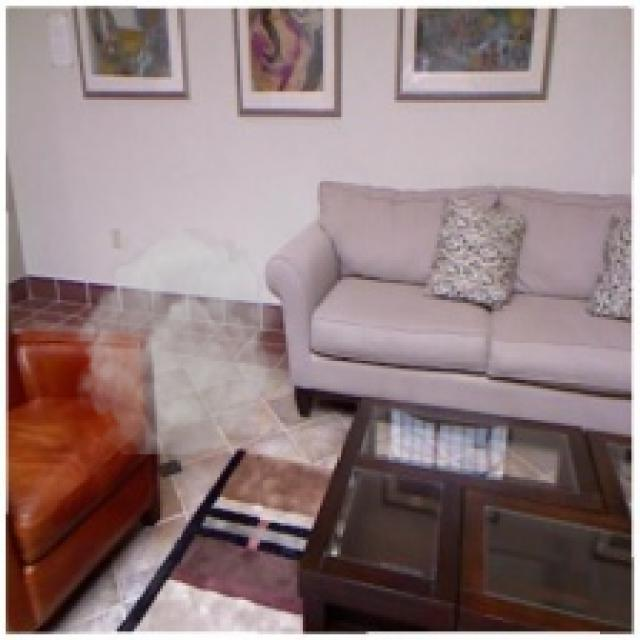smoke: (68, 229, 286, 454)
